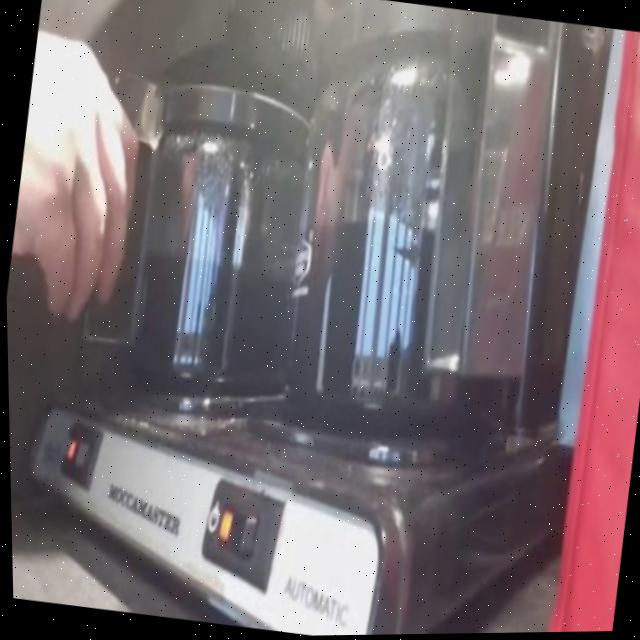coffee: (259, 0, 554, 468), (106, 68, 328, 413)
